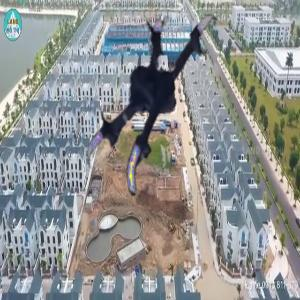drone: (71, 10, 265, 204)
